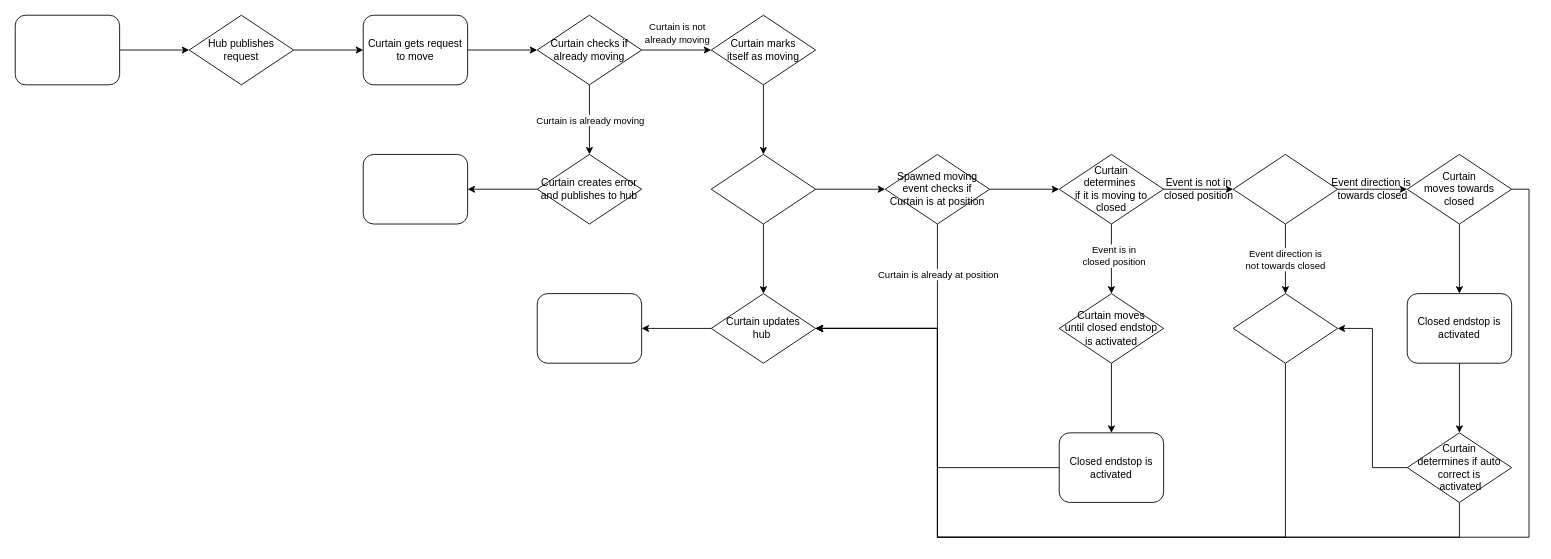
The diagram is 1551 pixels wide and 559 high, and some of its shapes have lost their labels. The shapes that lost their labels are listed below. From the top down, each one's centre as x and y in pixels, then its label:
pixel 67 49: Hub gets a command to move
pixel 415 189: Hub gets error
pixel 763 189: Curtain spawns a moving event
pixel 1285 189: Curtain determines if direction is towards close
pixel 589 328: Hub gets update
pixel 1285 328: Curtain steps to position
